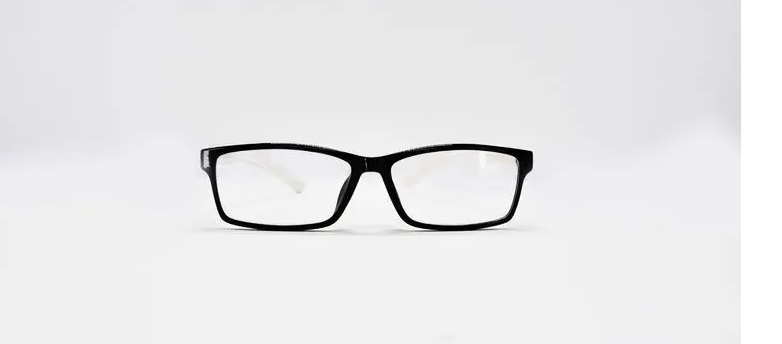glass: (175, 112, 557, 256)
